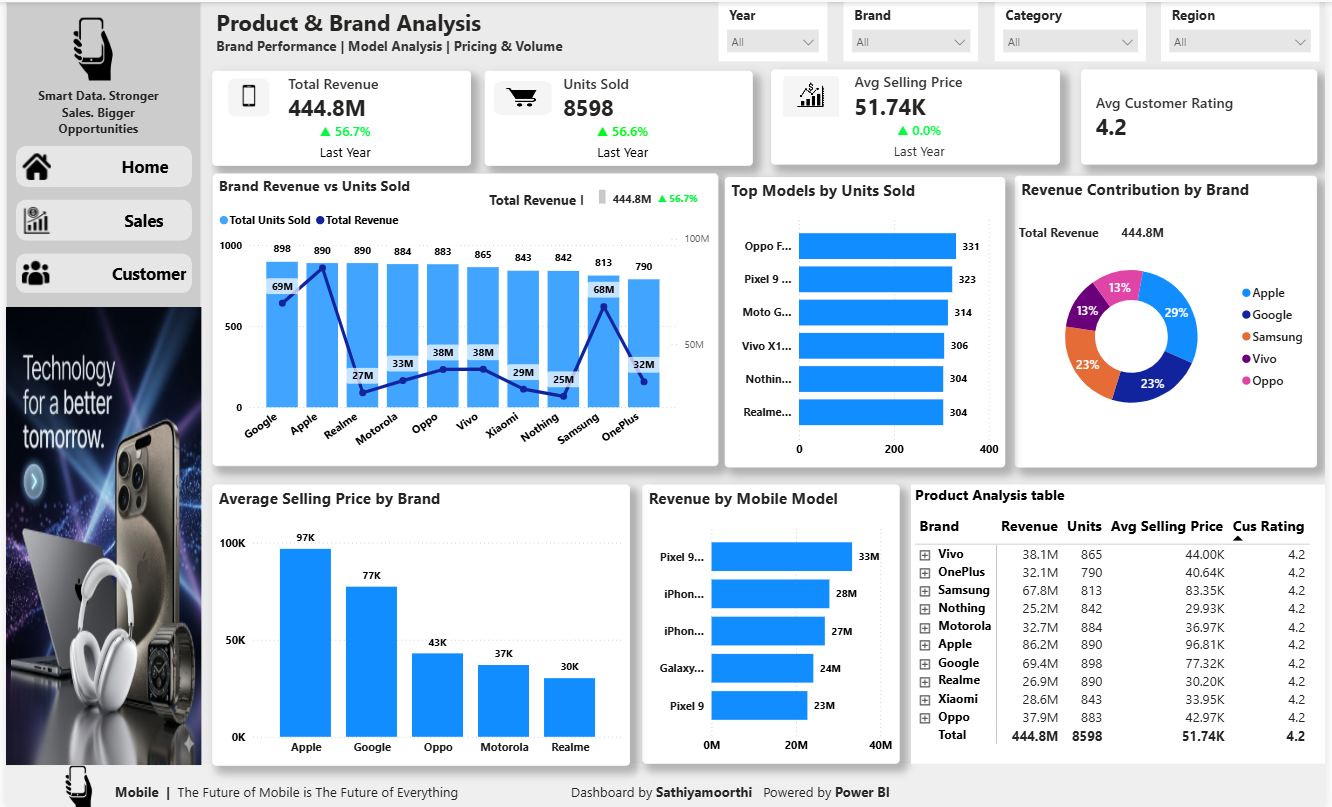

The dashboard page shown, as its layout file describes it:
{"tool":"powerbi","page":{"name":"Sales","canvas":[1600,980],"ordinal":1},"visuals":[{"type":"shape","box":[0,0,236.7,925],"z":0},{"type":"shape","box":[236.4,0,1363.6,922.7],"z":1000},{"type":"textbox","box":[250,1.7,743.3,80],"z":2000},{"type":"cardVisual","title":"Total Revenue","fields":{"Data":["Measure.Total Revenue"]},"box":[250,83.3,313.3,115],"z":3000},{"type":"cardVisual","title":"Total Revenue","fields":{"Data":["Measure.Units Sold"]},"box":[580,83.3,325,115],"z":4000},{"type":"cardVisual","title":"Total Revenue","fields":{"Data":["Measure.Average Customer Rating"]},"box":[1303.3,81.7,286.7,115],"z":5000},{"type":"cardVisual","title":"Total Revenue","fields":{"Data":["Measure.Average Selling Price"]},"box":[926.7,81.7,350,115],"z":6000},{"type":"lineClusteredColumnComboChart","title":"Brand Revenue vs Units Sold","fields":{"Category":["DimProduct.Brand"],"Y":["Measure.Total Units Sold"],"Y2":["Measure.Total Revenue"]},"box":[250,208.3,613.3,355],"z":7000},{"type":"cardVisual","fields":{"Data":["Measure.Total Revenue"]},"box":[716,212.5,148.6,51.4],"z":8000},{"type":"textbox","box":[580,223.3,151.7,28.3],"z":9000},{"type":"clusteredBarChart","title":"Revenue by Mobile Model","fields":{"Y":["Measure.Total Revenue"],"Category":["DimProduct.Model"]},"box":[771.7,585,311.7,338.3],"z":10000},{"type":"pivotTable","title":"Product Analysis table","fields":{"Rows":["DimProduct.Brand","DimProduct.Model"],"Values":["Measure.Total Revenue","Measure.Total Units Sold","Measure.Average Selling Price","Measure.Average Customer Rating"]},"box":[1096.7,585,503.3,338.3],"z":12000},{"type":"clusteredColumnChart","title":"Average Selling Price by Brand","fields":{"Category":["DimProduct.Brand"],"Y":["Measure.Average Selling Price"]},"box":[250,584.4,506.2,340.6],"z":13000},{"type":"donutChart","title":"Revenue Contribution by Brand","fields":{"Y":["Measure.Total Revenue"],"Category":["DimProduct.Brand"]},"box":[1223.3,210,366.7,353.3],"z":14000},{"type":"textbox","box":[1223.3,263.3,125,41.7],"z":15000},{"type":"cardVisual","fields":{"Data":["Measure.Total Revenue"]},"box":[1335,251.7,91.7,51.7],"z":16000},{"type":"clusteredBarChart","title":"Top Models by Units Sold","fields":{"Y":["Measure.Total Units Sold"],"Category":["DimProduct.Model"]},"box":[871.7,211.7,340,351.7],"z":17000},{"type":"slicer","fields":{"Values":["DimDate.Year"]},"box":[863.3,0,131.7,71.7],"z":20000},{"type":"slicer","fields":{"Values":["DimLocation.Region"]},"box":[1400,0,191.7,71.7],"z":21000},{"type":"slicer","fields":{"Values":["DimProduct.Brand"]},"box":[1015,0,163.3,71.7],"z":22000},{"type":"slicer","fields":{"Values":["DimProduct.Category"]},"box":[1198.3,0,183.3,71.7],"z":23000},{"type":"image","box":[0,370,236.7,555],"z":24000},{"type":"image","box":[51.7,16.7,108,81],"z":25000},{"type":"actionButton","box":[11.7,175,213.3,50],"z":27000},{"type":"actionButton","box":[11.7,240,213.3,50],"z":28000},{"type":"actionButton","box":[11.7,305,213.3,48.3],"z":29000},{"type":"image","box":[66.7,925,43.3,55],"z":30000},{"type":"textbox","box":[126.7,941.7,1473.3,38.3],"z":31000},{"type":"textbox","box":[13.3,98.3,196.7,76.7],"z":32001}]}

Visuals, with their boxes in screenshot pixels (x1, y1, x2, y2), scaled from the page's 1600x980 canvas onto the 1332x807 screenshot:
shape: bbox=[0, 0, 197, 762]
shape: bbox=[197, 0, 1331, 760]
textbox: bbox=[208, 1, 827, 67]
"Total Revenue" cardVisual: bbox=[208, 69, 469, 163]
"Total Revenue" cardVisual: bbox=[483, 69, 753, 163]
"Total Revenue" cardVisual: bbox=[1085, 67, 1324, 162]
"Total Revenue" cardVisual: bbox=[771, 67, 1063, 162]
"Brand Revenue vs Units Sold" lineClusteredColumnComboChart: bbox=[208, 172, 719, 464]
cardVisual - Measure.Total Revenue: bbox=[596, 175, 720, 217]
textbox: bbox=[483, 184, 609, 207]
"Revenue by Mobile Model" clusteredBarChart: bbox=[642, 482, 902, 760]
"Product Analysis table" pivotTable: bbox=[913, 482, 1331, 760]
"Average Selling Price by Brand" clusteredColumnChart: bbox=[208, 481, 630, 762]
"Revenue Contribution by Brand" donutChart: bbox=[1018, 173, 1324, 464]
textbox: bbox=[1018, 217, 1122, 251]
cardVisual - Measure.Total Revenue: bbox=[1111, 207, 1188, 250]
"Top Models by Units Sold" clusteredBarChart: bbox=[726, 174, 1009, 464]
slicer - DimDate.Year: bbox=[719, 0, 828, 59]
slicer - DimLocation.Region: bbox=[1166, 0, 1325, 59]
slicer - DimProduct.Brand: bbox=[845, 0, 981, 59]
slicer - DimProduct.Category: bbox=[998, 0, 1150, 59]
image: bbox=[0, 305, 197, 762]
image: bbox=[43, 14, 133, 80]
actionButton: bbox=[10, 144, 187, 185]
actionButton: bbox=[10, 198, 187, 239]
actionButton: bbox=[10, 251, 187, 291]
image: bbox=[56, 762, 92, 806]
textbox: bbox=[105, 775, 1331, 806]
textbox: bbox=[11, 81, 175, 144]
